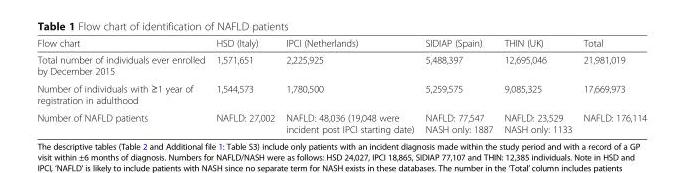table: (36, 37, 646, 134)
table column: (36, 37, 210, 134), (279, 37, 419, 134), (419, 37, 498, 134), (498, 37, 577, 134), (210, 37, 279, 134), (577, 37, 646, 134)
table column header: (36, 37, 646, 51)
table row: (36, 79, 646, 108), (36, 51, 646, 79), (36, 108, 646, 134), (36, 37, 646, 51)
